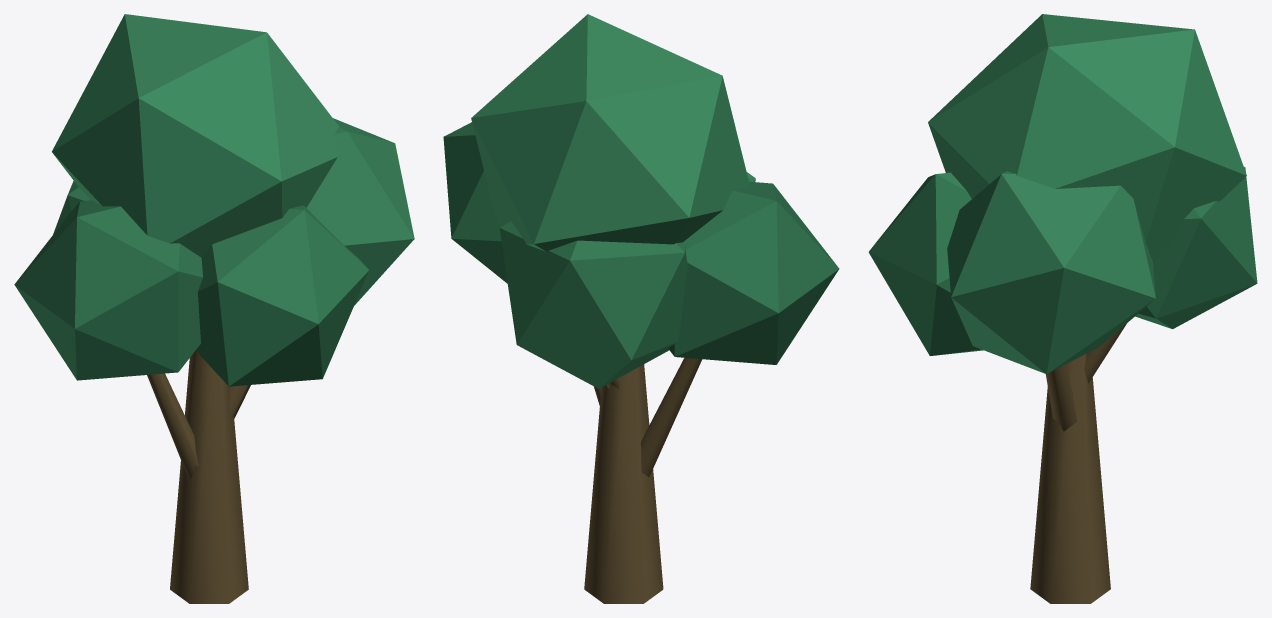
Rendered from Tree_Emerald.glb.
3 views of the same model, side by side, from view 1: azimuth 30°, elevation 25°; view 2: azimuth 150°, elevation 25°; view 3: azimuth 270°, elevation 25° (orthographic). The views are drawn at different scales.
Parts seen in each view (by area): view 1: Tree_Emerald; view 2: Tree_Emerald; view 3: Tree_Emerald.
Part boxes in pixels (left/top/right/bottom): Tree_Emerald: left=14, top=14, right=414, bottom=603; Tree_Emerald: left=443, top=14, right=839, bottom=603; Tree_Emerald: left=868, top=14, right=1257, bottom=603.
Bounding box in the file's own units: 1.86 × 2.76 × 1.72.
